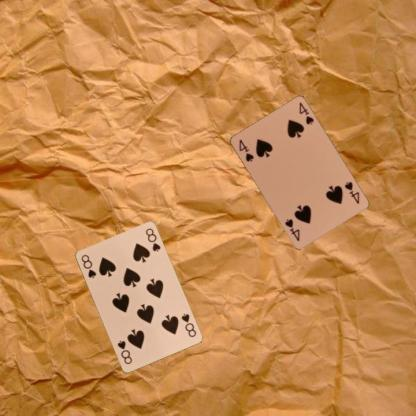4s: (236, 136, 255, 163), (342, 179, 360, 205)
8s: (178, 311, 197, 338), (79, 252, 97, 280)
